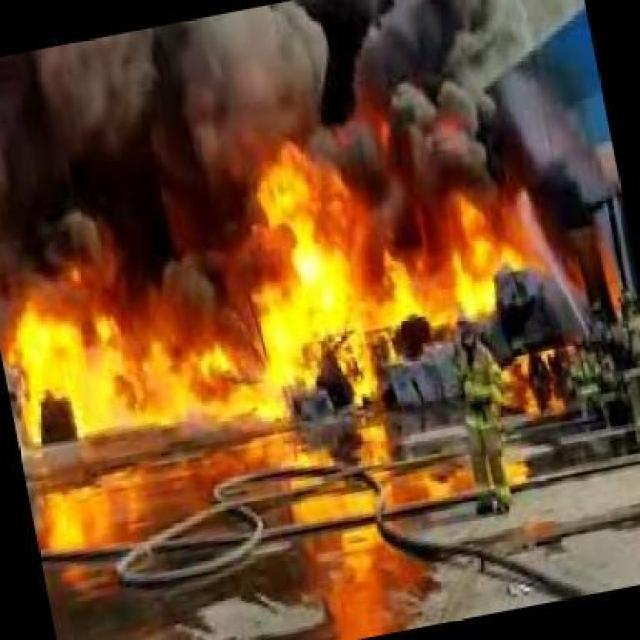Fire: (8, 310, 304, 436), (258, 156, 422, 336), (448, 205, 547, 322)
Smoke: (10, 56, 261, 307), (198, 20, 600, 157), (477, 137, 609, 205), (362, 126, 448, 212)
